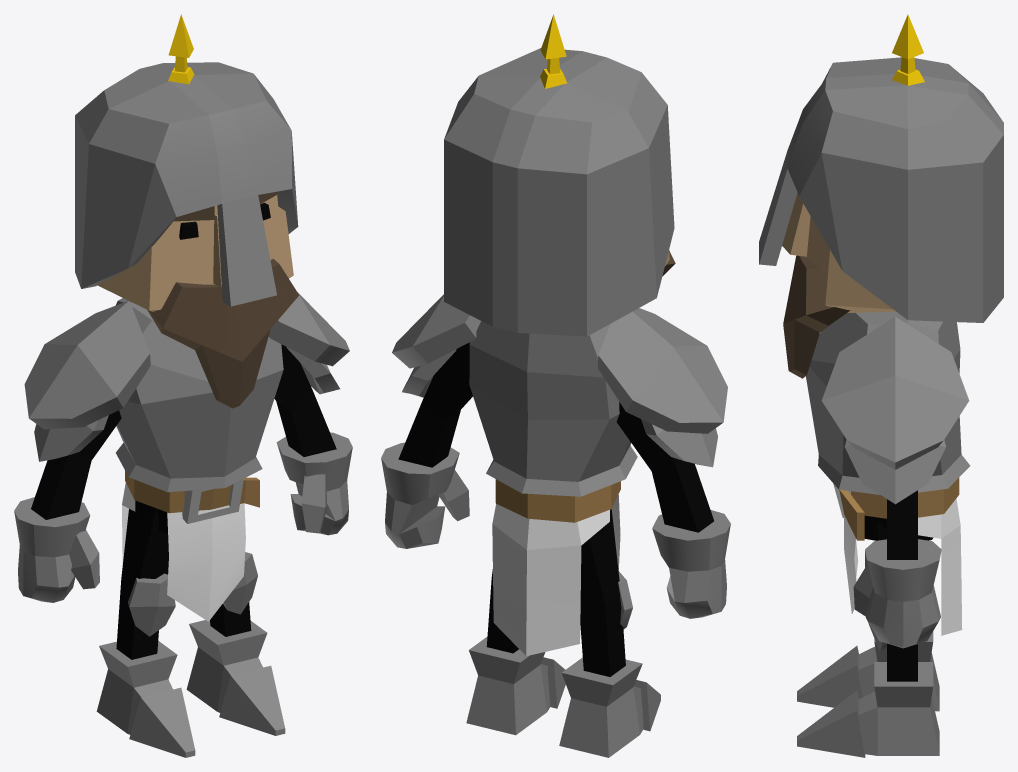
The model's file is soldier.gltf.
3 views of the same model, side by side, from view 1: azimuth 30°, elevation 25°; view 2: azimuth 150°, elevation 25°; view 3: azimuth 270°, elevation 25° (orthographic). The views are drawn at different scales.
Visible parts, largest first — view 1: Soldier_15; view 2: Soldier_15; view 3: Soldier_15.
Part boxes in pixels (x1,y1,x2,y2): Soldier_15: (14,14,352,757); Soldier_15: (381,14,730,757); Soldier_15: (759,14,1003,757).
Bounding box in the file's own units: 0.9251 × 1.85 × 0.5809.
